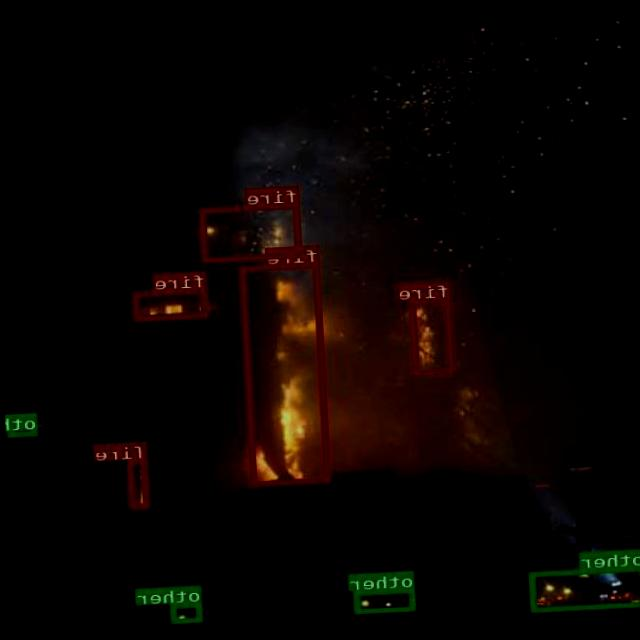fire: (242, 262, 332, 486), (202, 202, 303, 262), (411, 297, 456, 375), (135, 287, 209, 320), (128, 458, 151, 508)
